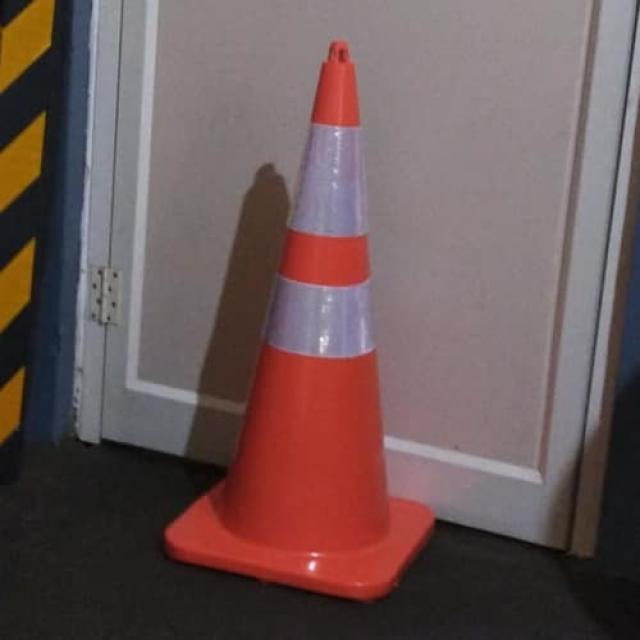Traffic Cone: (148, 13, 459, 618)
